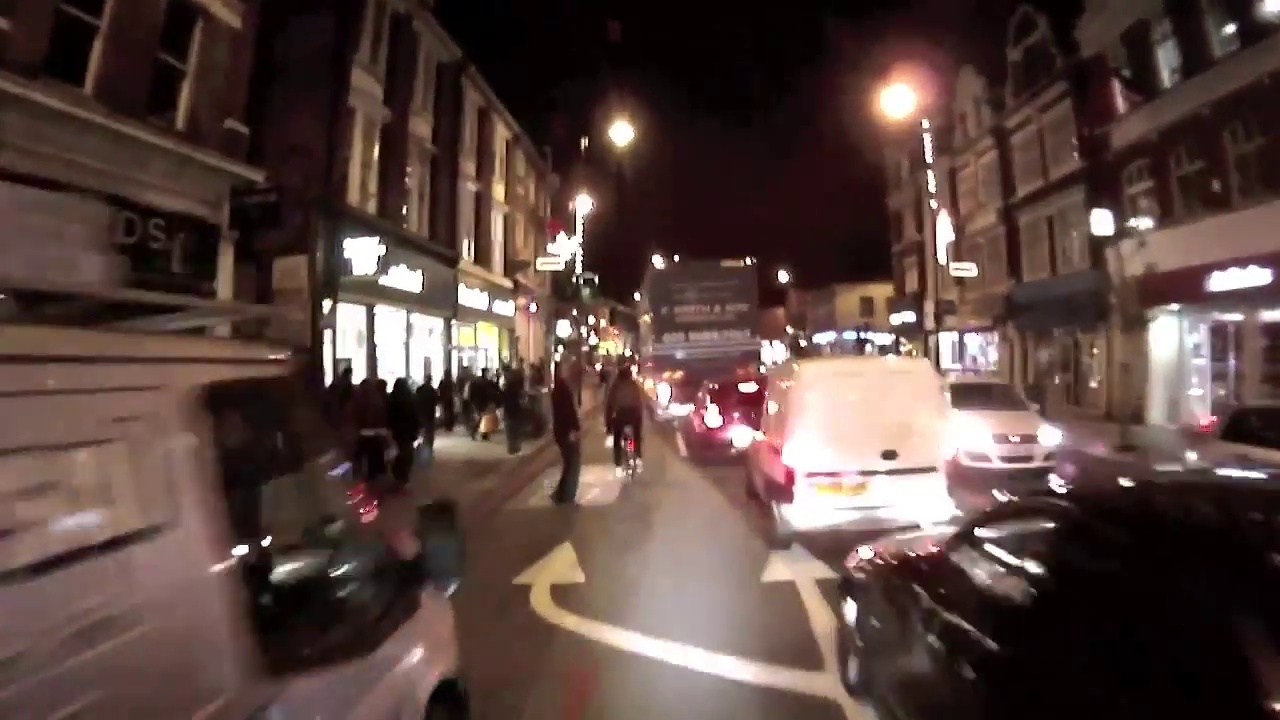cyclist_back: (606, 352, 653, 492)
